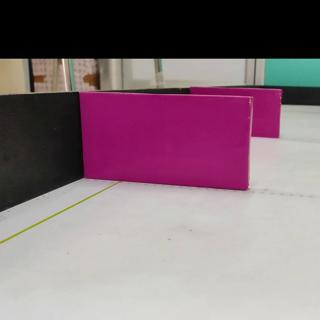xparking: (88, 93, 249, 189), (257, 89, 280, 136)
